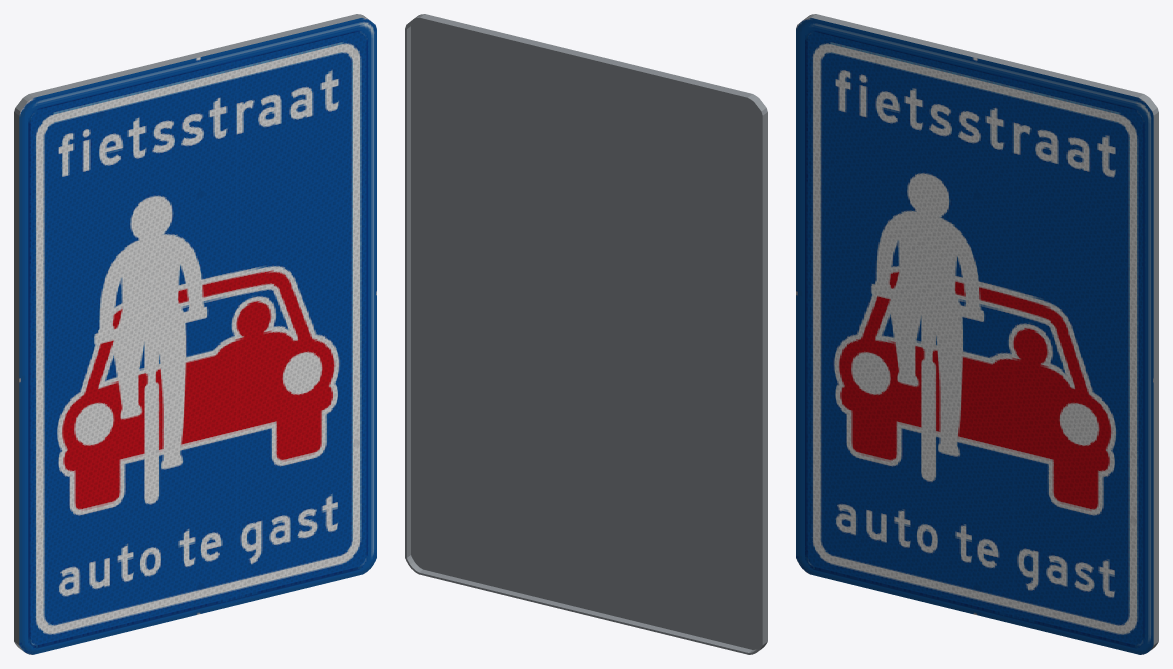
3 renders of one model, left to right at view 1: azimuth 30°, elevation 25°; view 2: azimuth 150°, elevation 25°; view 3: azimuth 330°, elevation 25°, orthographic.
Parts seen in each view (by area): view 1: cat_51311de24405eb8c; view 2: cat_51311de24405eb8c; view 3: cat_51311de24405eb8c.
Boxes of the visible parts, <box> form: cat_51311de24405eb8c: <box>14,14,376,654</box>; cat_51311de24405eb8c: <box>405,14,767,654</box>; cat_51311de24405eb8c: <box>796,14,1158,654</box>.
Size of the model in its own units: 0.6 by 0.015 by 0.8927.
2 materials, 1 textured.
